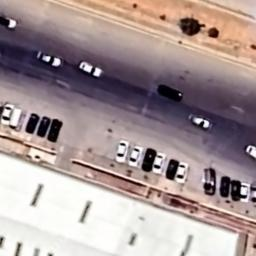SUV: (79, 62, 104, 78)
sedan: (36, 50, 63, 68), (157, 84, 184, 102), (188, 114, 214, 130), (47, 118, 63, 143), (142, 148, 158, 172), (128, 146, 144, 168), (24, 112, 40, 134), (116, 140, 130, 164), (175, 162, 190, 184), (152, 152, 167, 174), (0, 12, 18, 30), (37, 116, 51, 138), (0, 104, 14, 125), (165, 160, 179, 180), (220, 177, 230, 197), (241, 182, 250, 202), (232, 180, 240, 200), (246, 144, 256, 158), (251, 184, 256, 206)
unknown: (204, 168, 216, 195)
van: (8, 108, 24, 130)
